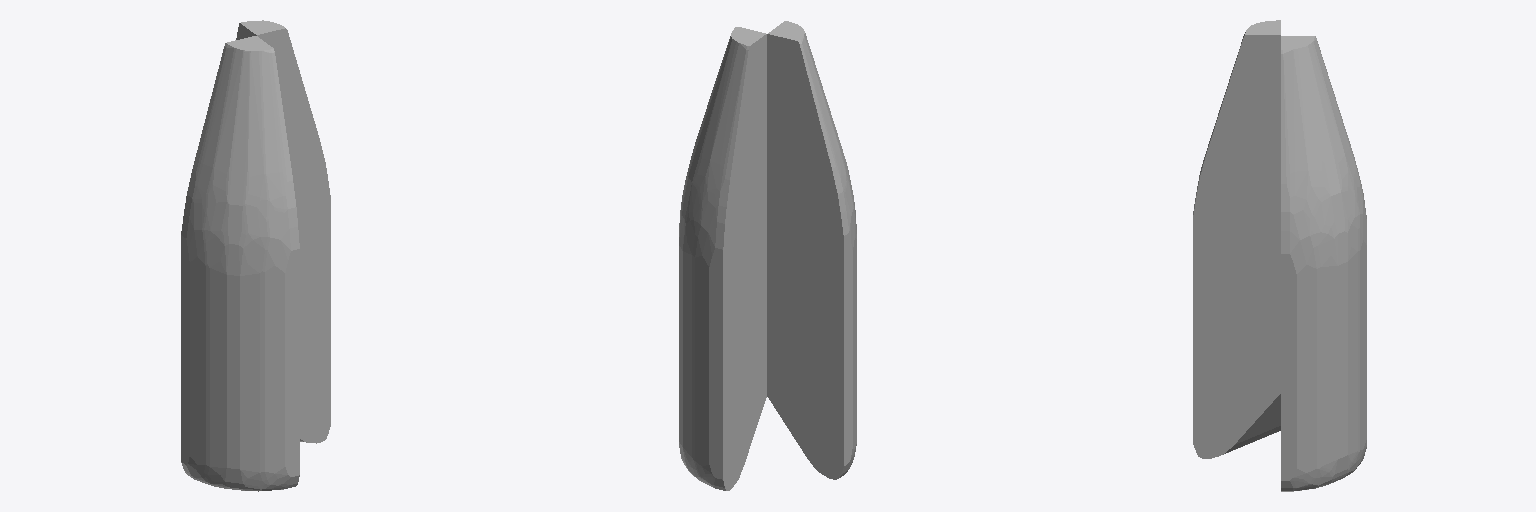
URDF robot description (root):
<robot name="root">
  <link name="link_coacd_convex_piece_0">
    <inertial>
      <origin xyz="0 0 0" rpy="0 0 0"/>
      <inertia ixx="6.54E-03" ixy="-7.03E-08" ixz="-3.33E-07" iyy="6.54E-03" iyz="-4.62E-07" izz="8.19E-05"/>
    </inertial>
    <visual>
      <origin xyz="0 0 0" rpy="0 0 0"/>
      <geometry>
        <mesh filename="coacd_convex_piece_0.obj" scale="1.0000E+00 1.0000E+00 1.0000E+00"/>
      </geometry>
      <material name="">
        <color rgba="7.50E-01 7.50E-01 7.50E-01 1"/>
      </material>
    </visual>
    <collision>
      <origin xyz="0 0 0" rpy="0 0 0"/>
      <geometry>
        <mesh filename="coacd_convex_piece_0.obj" scale="1.0000E+00 1.0000E+00 1.0000E+00"/>
      </geometry>
    </collision>
  </link>
  <link name="link_coacd_convex_piece_1">
    <inertial>
      <origin xyz="0 0 0" rpy="0 0 0"/>
      <inertia ixx="1.05E-02" ixy="-6.47E-04" ixz="2.41E-03" iyy="1.05E-02" iyz="2.41E-03" izz="1.98E-03"/>
    </inertial>
    <visual>
      <origin xyz="0 0 0" rpy="0 0 0"/>
      <geometry>
        <mesh filename="coacd_convex_piece_1.obj" scale="1.0000E+00 1.0000E+00 1.0000E+00"/>
      </geometry>
      <material name="">
        <color rgba="7.50E-01 7.50E-01 7.50E-01 1"/>
      </material>
    </visual>
    <collision>
      <origin xyz="0 0 0" rpy="0 0 0"/>
      <geometry>
        <mesh filename="coacd_convex_piece_1.obj" scale="1.0000E+00 1.0000E+00 1.0000E+00"/>
      </geometry>
    </collision>
  </link>
  <joint name="link_coacd_convex_piece_1_joint" type="fixed">
    <origin xyz="0 0 0" rpy="0 0 0"/>
    <parent link="link_coacd_convex_piece_0"/>
    <child link="link_coacd_convex_piece_1"/>
  </joint>
  <link name="link_coacd_convex_piece_2">
    <inertial>
      <origin xyz="0 0 0" rpy="0 0 0"/>
      <inertia ixx="1.07E-02" ixy="6.47E-04" ixz="-2.41E-03" iyy="1.07E-02" iyz="2.47E-03" izz="2.01E-03"/>
    </inertial>
    <visual>
      <origin xyz="0 0 0" rpy="0 0 0"/>
      <geometry>
        <mesh filename="coacd_convex_piece_2.obj" scale="1.0000E+00 1.0000E+00 1.0000E+00"/>
      </geometry>
      <material name="">
        <color rgba="7.50E-01 7.50E-01 7.50E-01 1"/>
      </material>
    </visual>
    <collision>
      <origin xyz="0 0 0" rpy="0 0 0"/>
      <geometry>
        <mesh filename="coacd_convex_piece_2.obj" scale="1.0000E+00 1.0000E+00 1.0000E+00"/>
      </geometry>
    </collision>
  </link>
  <joint name="link_coacd_convex_piece_2_joint" type="fixed">
    <origin xyz="0 0 0" rpy="0 0 0"/>
    <parent link="link_coacd_convex_piece_1"/>
    <child link="link_coacd_convex_piece_2"/>
  </joint>
  <link name="link_coacd_convex_piece_3">
    <inertial>
      <origin xyz="0 0 0" rpy="0 0 0"/>
      <inertia ixx="1.08E-02" ixy="6.47E-04" ixz="2.48E-03" iyy="1.09E-02" iyz="-2.44E-03" izz="2.03E-03"/>
    </inertial>
    <visual>
      <origin xyz="0 0 0" rpy="0 0 0"/>
      <geometry>
        <mesh filename="coacd_convex_piece_3.obj" scale="1.0000E+00 1.0000E+00 1.0000E+00"/>
      </geometry>
      <material name="">
        <color rgba="7.50E-01 7.50E-01 7.50E-01 1"/>
      </material>
    </visual>
    <collision>
      <origin xyz="0 0 0" rpy="0 0 0"/>
      <geometry>
        <mesh filename="coacd_convex_piece_3.obj" scale="1.0000E+00 1.0000E+00 1.0000E+00"/>
      </geometry>
    </collision>
  </link>
  <joint name="link_coacd_convex_piece_3_joint" type="fixed">
    <origin xyz="0 0 0" rpy="0 0 0"/>
    <parent link="link_coacd_convex_piece_2"/>
    <child link="link_coacd_convex_piece_3"/>
  </joint>
  <link name="link_coacd_convex_piece_4">
    <inertial>
      <origin xyz="0 0 0" rpy="0 0 0"/>
      <inertia ixx="1.09E-02" ixy="-6.46E-04" ixz="-2.48E-03" iyy="1.09E-02" iyz="-2.45E-03" izz="2.03E-03"/>
    </inertial>
    <visual>
      <origin xyz="0 0 0" rpy="0 0 0"/>
      <geometry>
        <mesh filename="coacd_convex_piece_4.obj" scale="1.0000E+00 1.0000E+00 1.0000E+00"/>
      </geometry>
      <material name="">
        <color rgba="7.50E-01 7.50E-01 7.50E-01 1"/>
      </material>
    </visual>
    <collision>
      <origin xyz="0 0 0" rpy="0 0 0"/>
      <geometry>
        <mesh filename="coacd_convex_piece_4.obj" scale="1.0000E+00 1.0000E+00 1.0000E+00"/>
      </geometry>
    </collision>
  </link>
  <joint name="link_coacd_convex_piece_4_joint" type="fixed">
    <origin xyz="0 0 0" rpy="0 0 0"/>
    <parent link="link_coacd_convex_piece_3"/>
    <child link="link_coacd_convex_piece_4"/>
  </joint>
</robot>

--- Render facts (derived) ---
3 views of the same robot in one strip: view 1: azimuth 30°, elevation 25°; view 2: azimuth 150°, elevation 25°; view 3: azimuth 270°, elevation 25° (orthographic).
Model root with 5 links and 4 joints (4 fixed), rooted at link_coacd_convex_piece_0, posed all joints at 0.
Links seen in each view (by area): view 1: link_coacd_convex_piece_4, link_coacd_convex_piece_1; view 2: link_coacd_convex_piece_1, link_coacd_convex_piece_4; view 3: link_coacd_convex_piece_1, link_coacd_convex_piece_4.
Link boxes in pixels (box(x1,y1,x2,y2)): link_coacd_convex_piece_4: box(181, 36, 299, 491); link_coacd_convex_piece_1: box(236, 20, 330, 443); link_coacd_convex_piece_1: box(679, 27, 766, 490); link_coacd_convex_piece_4: box(767, 21, 856, 479); link_coacd_convex_piece_1: box(1281, 36, 1366, 491); link_coacd_convex_piece_4: box(1193, 20, 1280, 458).
Bounding box of the posed robot: 0.5368 × 0.5368 × 1.45 m (x, y, z).
2 mesh visuals loaded from 5 distinct referenced files (2 OBJ); not drawn: 3 (reference not matched to a file when rendering).